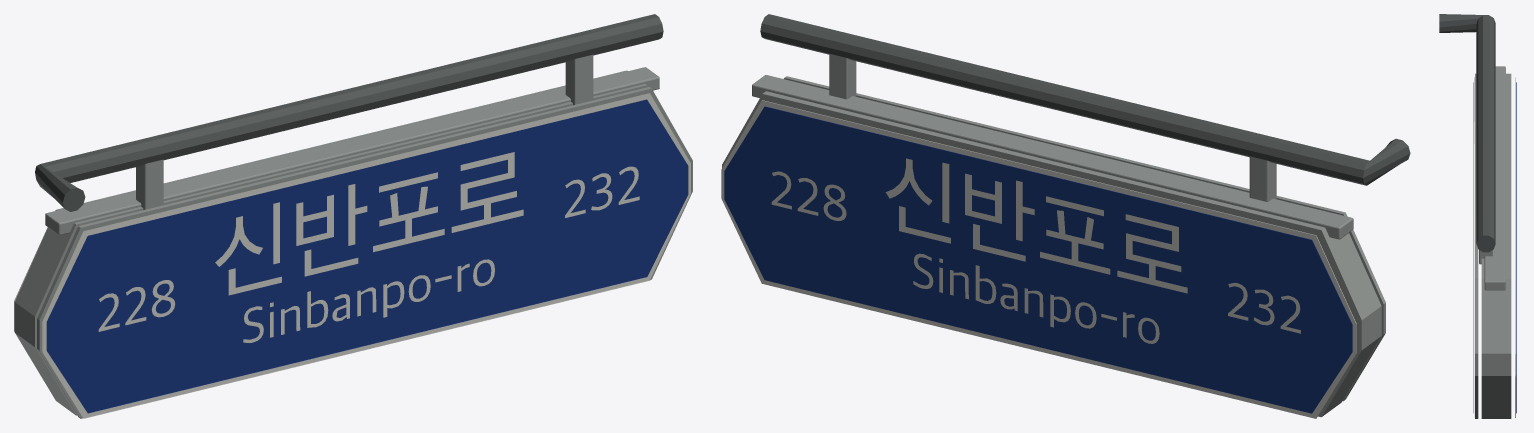
File: sinbanpo.glb
3 renders of one model, left to right at view 1: azimuth 30°, elevation 25°; view 2: azimuth 150°, elevation 25°; view 3: azimuth 270°, elevation 25°, orthographic. The views are drawn at different scales.
Parts seen in each view (by area): view 1: sinbanpo; view 2: sinbanpo; view 3: sinbanpo.
Part boxes in pixels (box(x1,y1,x2,y2)): sinbanpo: box(14, 14, 692, 418); sinbanpo: box(721, 14, 1410, 418); sinbanpo: box(1439, 14, 1516, 418).
Bounding box in the file's own units: 1.1 × 0.4091 × 0.1579.
